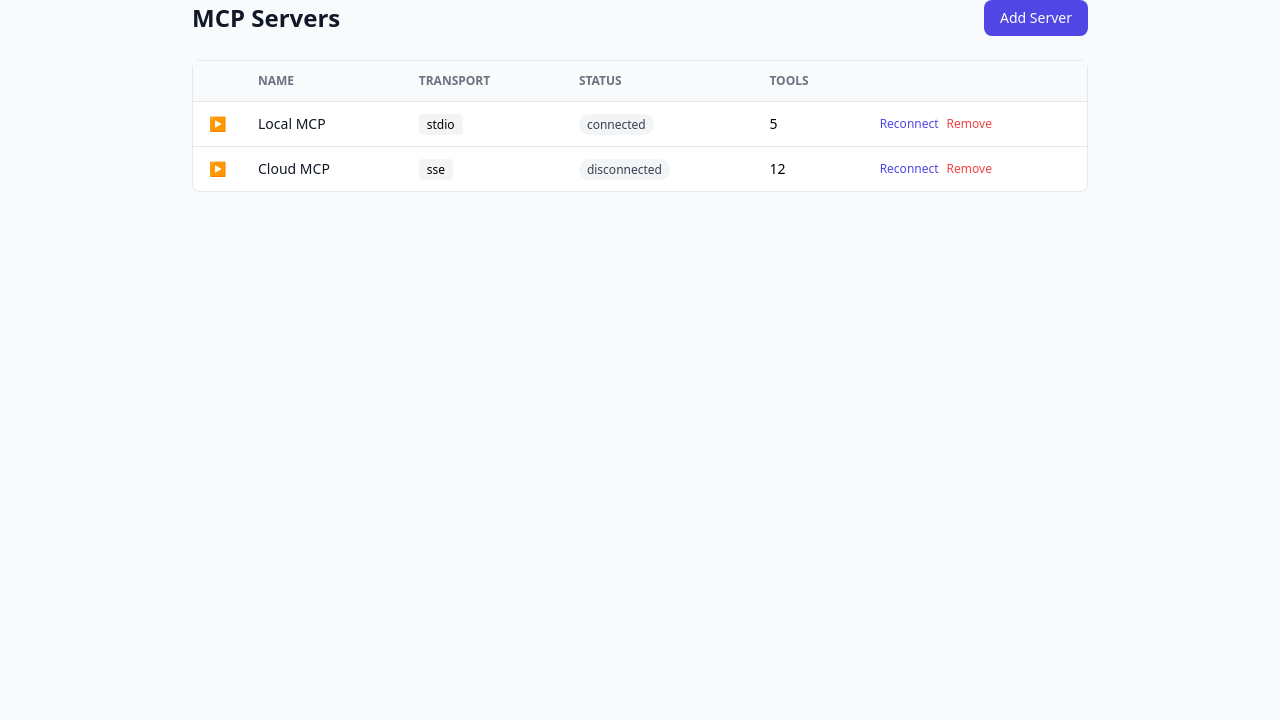
MCP3: Add HTTP server › shows URL field when sse transport selected
Click the button "Add Server": (1036, 18) [984,0,1088,36]
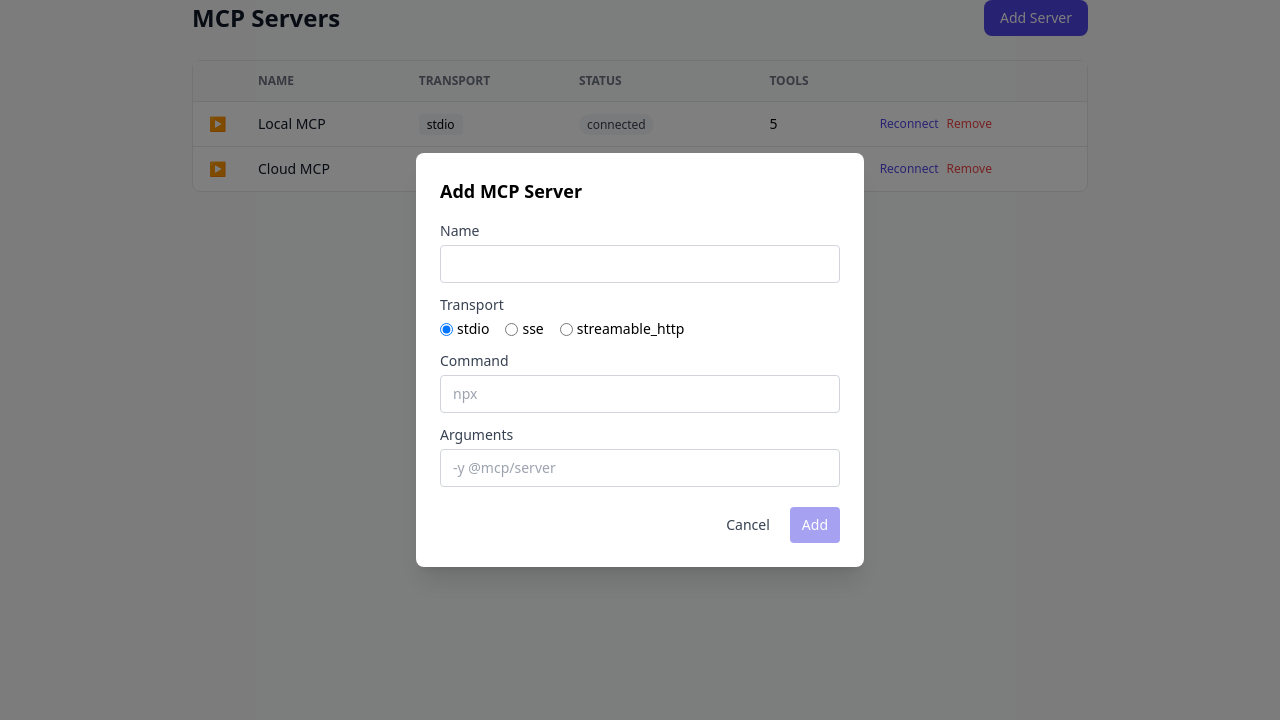
Check: the heading "Add MCP Server" is shown, box [440,179,582,203]
Select sse radio
Click the radio button labelled "sse": (512, 329) [506,322,518,336]
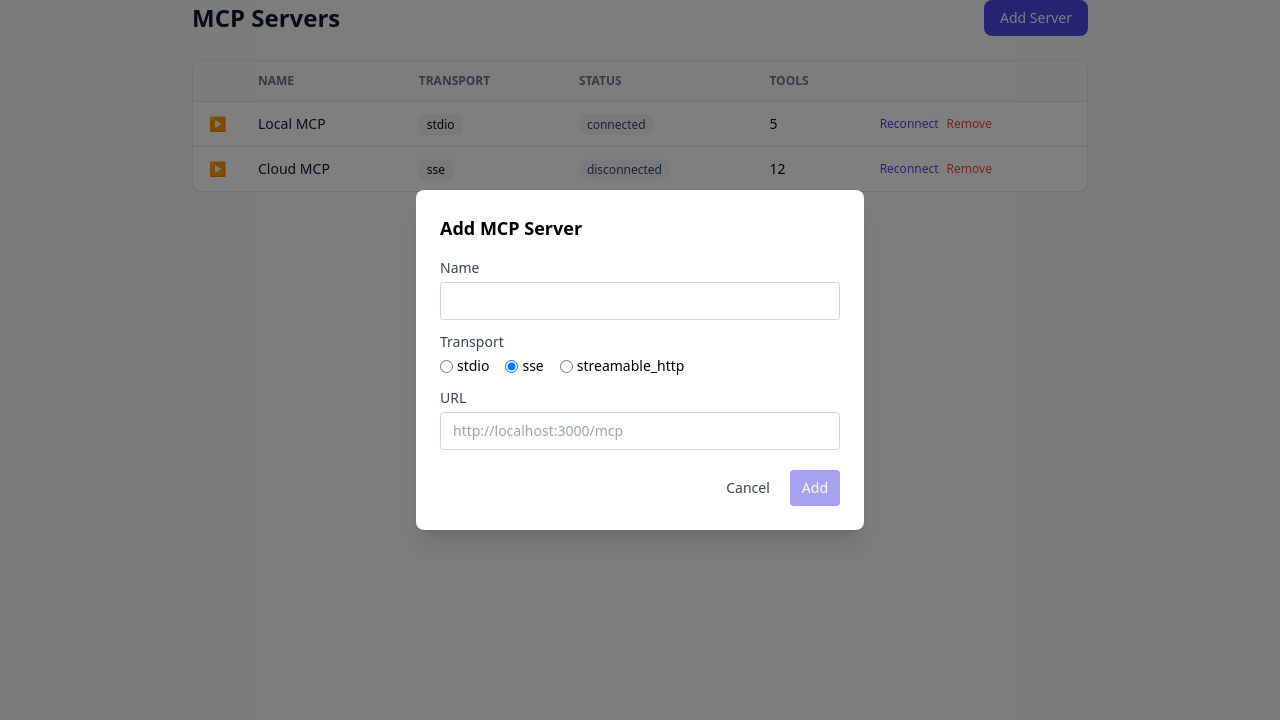
Check: the text "URL" is shown, box [440,388,466,407]
Check: the field with placeholder "http://localhost:3000/mcp" is shown, box [440,412,840,450]
